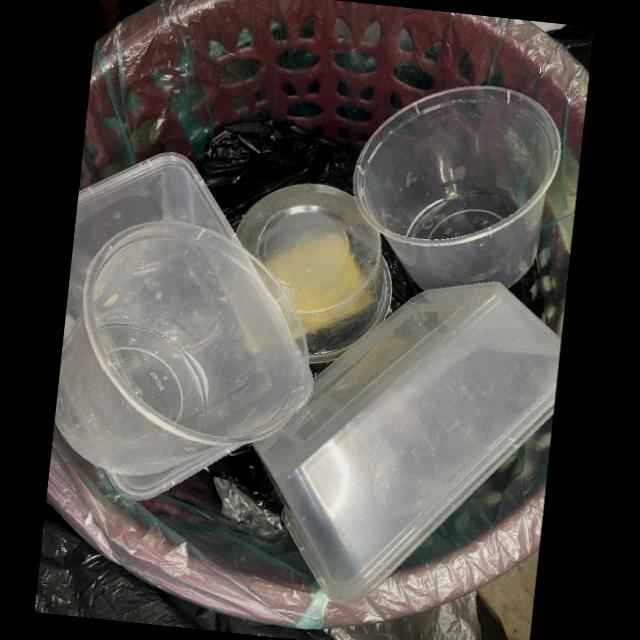hop_nhua: (253, 282, 561, 605), (54, 221, 307, 475), (352, 86, 561, 291), (63, 152, 242, 338), (234, 183, 393, 365)
